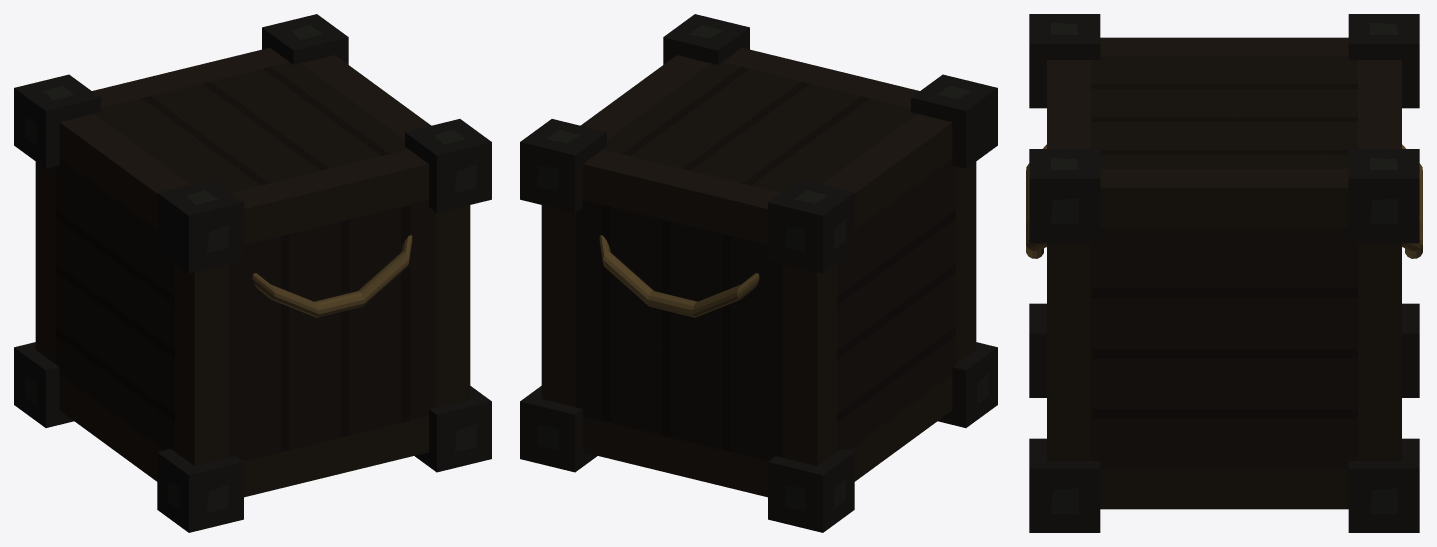
Rendered from crate.gltf.
The picture shows the model from 3 angles, left to right: view 1: azimuth 30°, elevation 25°; view 2: azimuth 150°, elevation 25°; view 3: azimuth 270°, elevation 25°; orthographic projection. The views are drawn at different scales.
Parts seen in each view (by area): view 1: Crate; view 2: Crate; view 3: Crate.
Boxes of the visible parts, x1,y1,x2,y2 form: Crate: [14, 14, 491, 532]; Crate: [520, 14, 997, 532]; Crate: [1026, 14, 1422, 532].
Bounding box in the file's own units: 1 × 1 × 1.02.
1 material, 1 textured.
